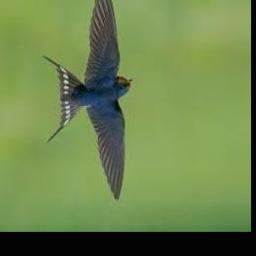Swallow: (42, 0, 133, 200)
